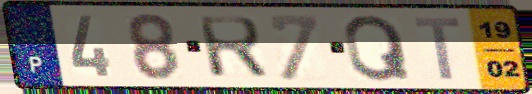4: (68, 14, 113, 79)
7: (267, 13, 325, 83)
8: (124, 11, 183, 82)
Q: (341, 13, 415, 84)
R: (194, 14, 271, 80)
T: (410, 15, 464, 82)
